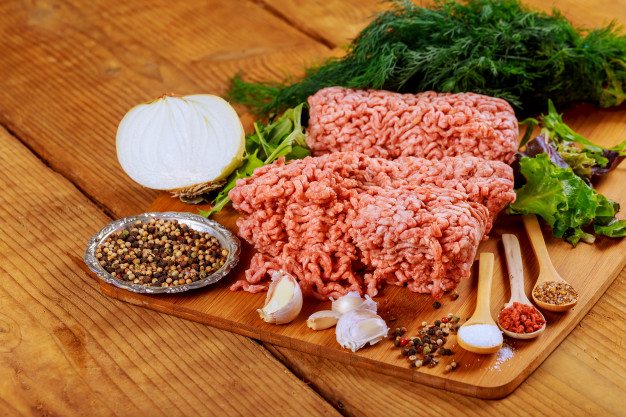ground_beef: (260, 158, 495, 310), (309, 88, 517, 174)
